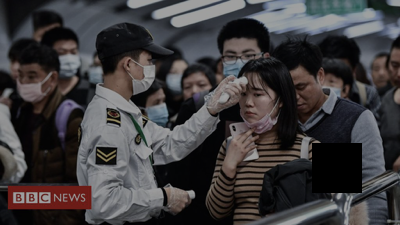mask_weared_incorrect: (237, 86, 277, 135)
with_mask: (222, 47, 260, 82), (15, 68, 47, 104), (132, 55, 157, 97), (55, 47, 81, 80), (144, 95, 169, 128), (166, 66, 189, 95), (89, 60, 104, 86)
without_mask: (291, 79, 319, 115), (371, 63, 392, 90), (387, 59, 400, 92)
